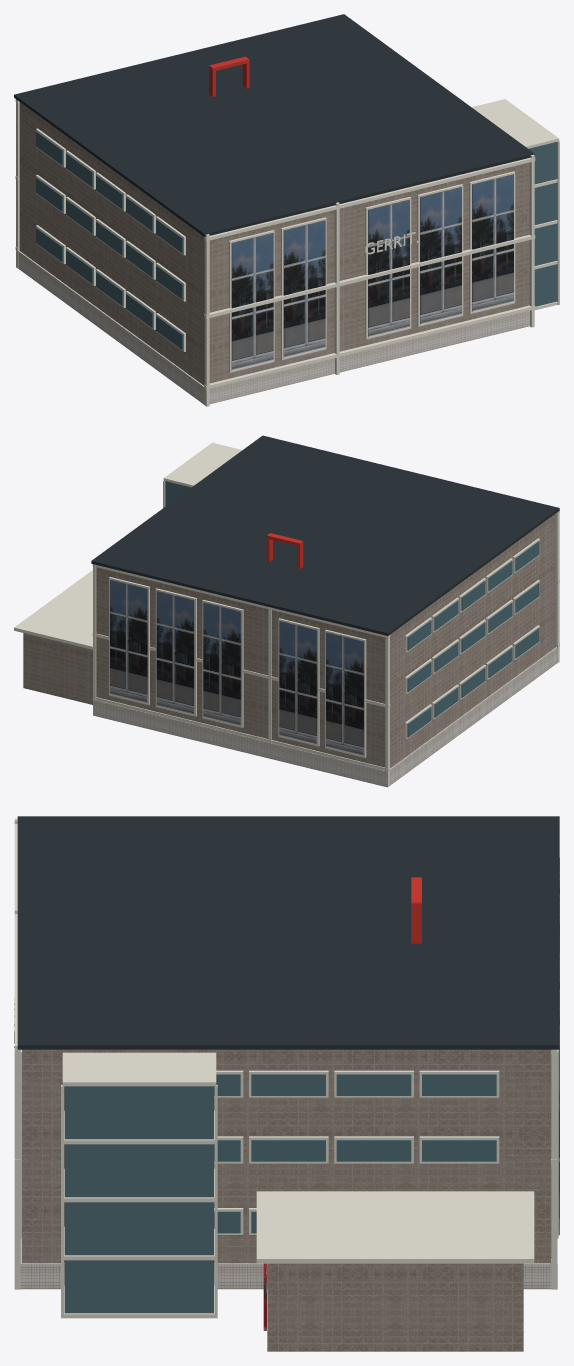
3 views of the same model, one above another, from view 1: azimuth 30°, elevation 25°; view 2: azimuth 150°, elevation 25°; view 3: azimuth 270°, elevation 25° (orthographic). The views are drawn at different scales.
Visible parts, largest first — view 1: Uithoorn_de-hoeksteen; view 2: Uithoorn_de-hoeksteen; view 3: Uithoorn_de-hoeksteen.
Boxes of the visible parts, left/top/right/bottom form: Uithoorn_de-hoeksteen: left=14, top=14, right=559, bottom=406; Uithoorn_de-hoeksteen: left=14, top=435, right=559, bottom=787; Uithoorn_de-hoeksteen: left=14, top=816, right=559, bottom=1351.
Size of the model in its own units: 32.71 by 14.77 by 25.59.
8 materials, 4 textured.
